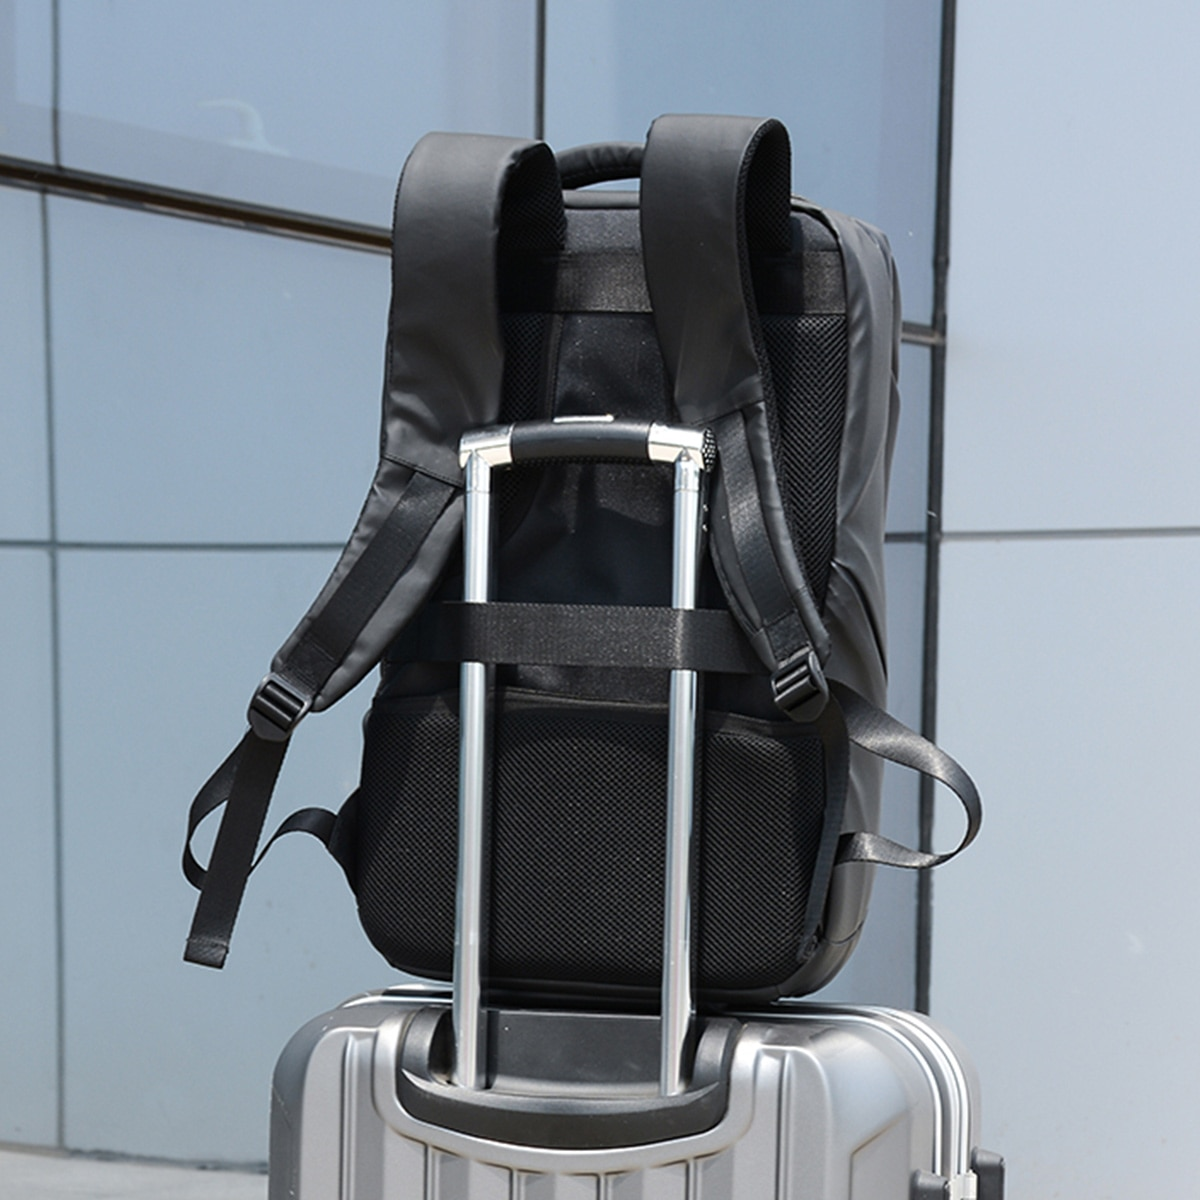Luggage & Bags|Trolly & Travel Bags: (258, 937, 1022, 1200)
Men's Backpacks: (169, 110, 905, 1005)
